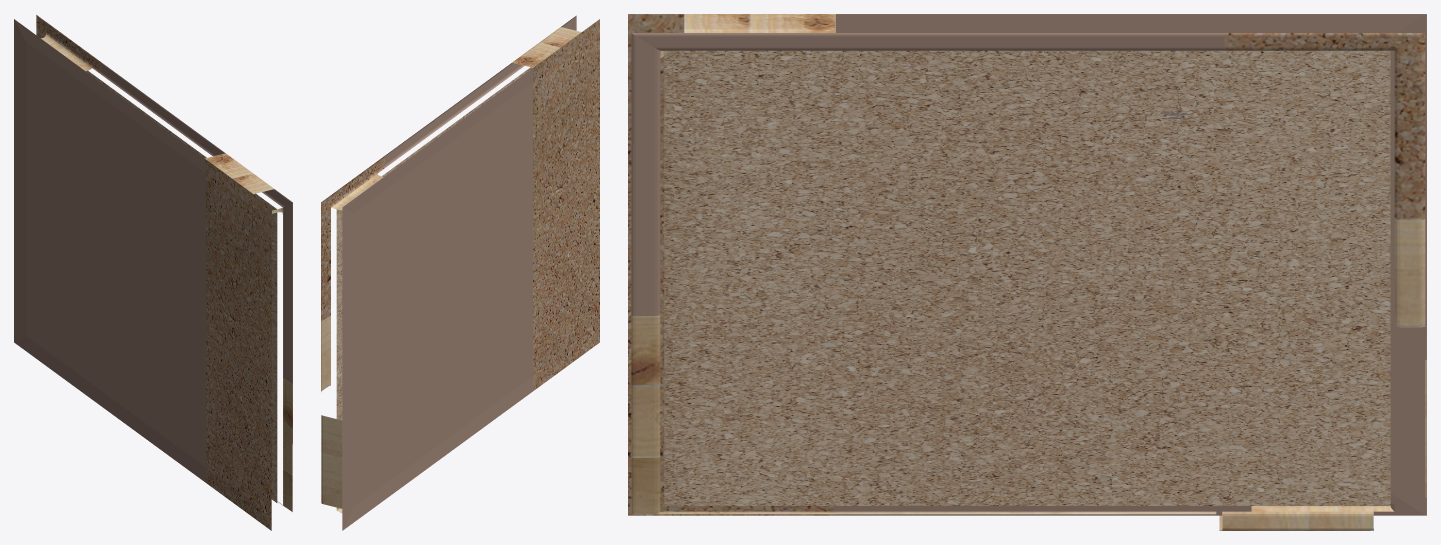
File: PinboardNEW.fbx
3 renders of one model, left to right at view 1: azimuth 30°, elevation 25°; view 2: azimuth 150°, elevation 25°; view 3: azimuth 270°, elevation 25°, orthographic. The views are drawn at different scales.
Parts seen in each view (by area): view 1: border, Cork; view 2: border, Cork; view 3: Cork, border.
Boxes of the visible parts, left/top/right/bottom form: border: left=14, top=15, right=292, bottom=530; Cork: left=86, top=70, right=277, bottom=502; border: left=321, top=15, right=599, bottom=530; Cork: left=336, top=67, right=532, bottom=420; Cork: left=664, top=50, right=1390, bottom=505; border: left=628, top=14, right=1426, bottom=530.
Bounding box in the file's own units: 16.32 × 220 × 317.
